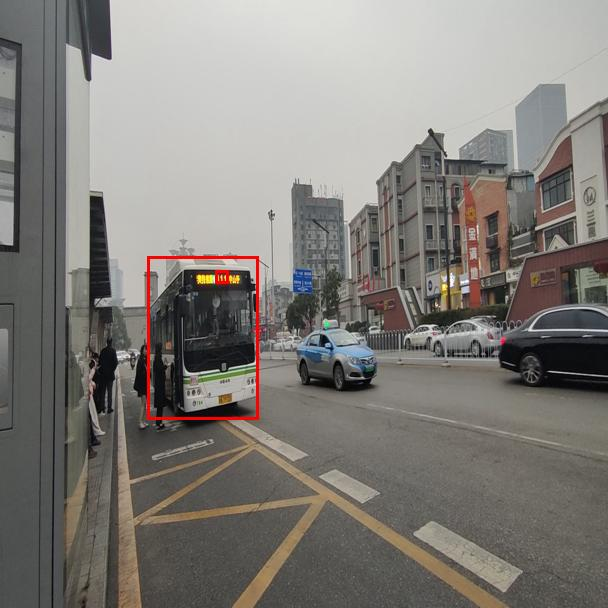bus: (147, 256, 258, 419)
screen: (215, 270, 228, 283)
